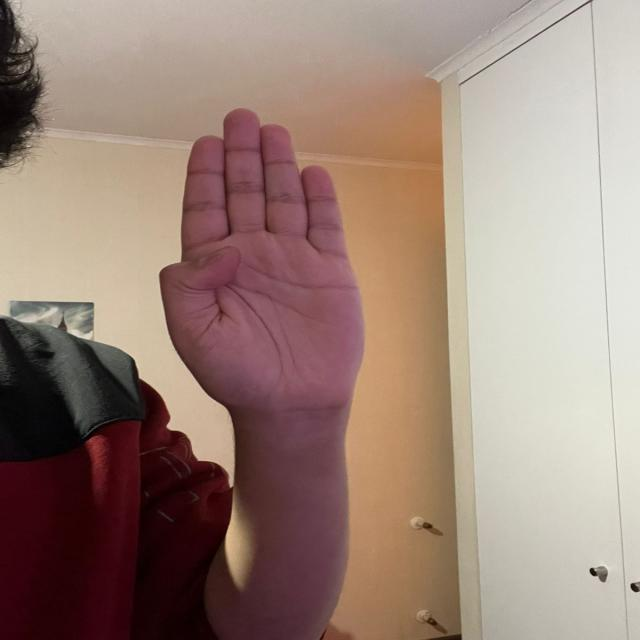B: (151, 105, 369, 403)
